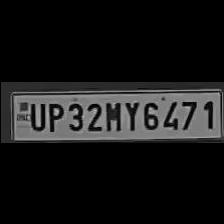1: (198, 97, 216, 129)
2: (82, 98, 102, 132)
3: (64, 98, 82, 132)
4: (160, 97, 178, 129)
6: (138, 98, 158, 130)
7: (178, 97, 196, 129)
M: (102, 98, 120, 132)
P: (43, 98, 62, 132)
U: (25, 99, 43, 130)
Y: (121, 97, 139, 131)
